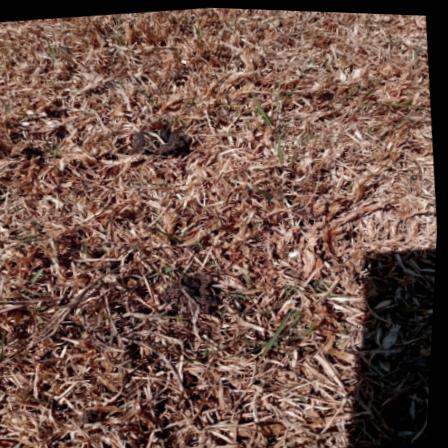dog-poop: (115, 112, 197, 168)
